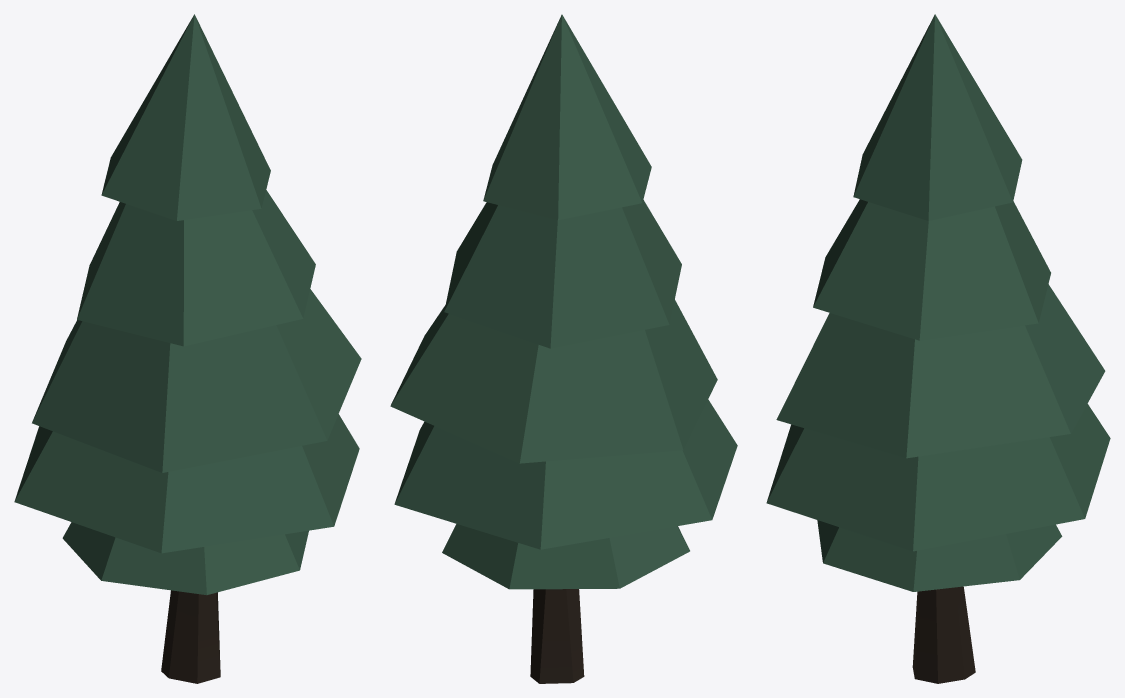
Rendered from Pine Tree.fbx.
The picture shows the model from 3 angles, left to right: view 1: azimuth 30°, elevation 25°; view 2: azimuth 150°, elevation 25°; view 3: azimuth 270°, elevation 25°; orthographic projection.
Visible parts, largest first — view 1: Tree__Pine_; view 2: Tree__Pine_; view 3: Tree__Pine_.
Part boxes in pixels (x1,y1,x2,y2): Tree__Pine_: [14, 14, 361, 683]; Tree__Pine_: [390, 14, 737, 683]; Tree__Pine_: [766, 14, 1110, 683].
Bounding box in the file's own units: 4.09 × 8.07 × 3.83.
